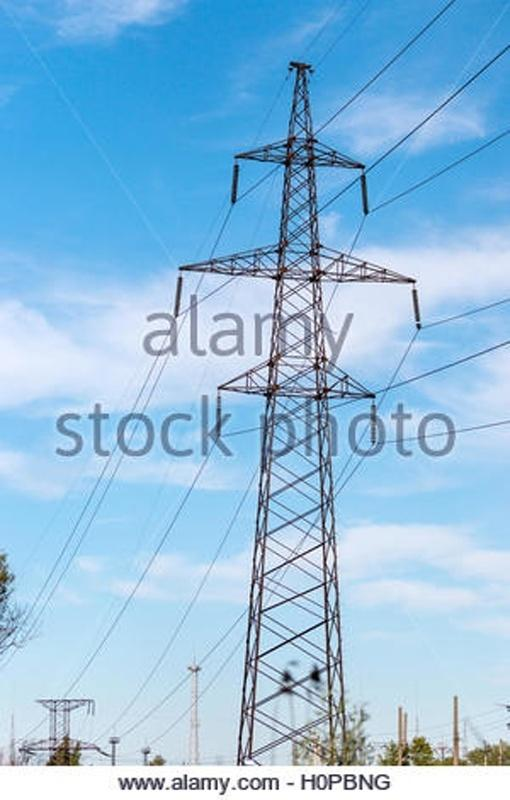power_tower: (208, 51, 400, 762)
